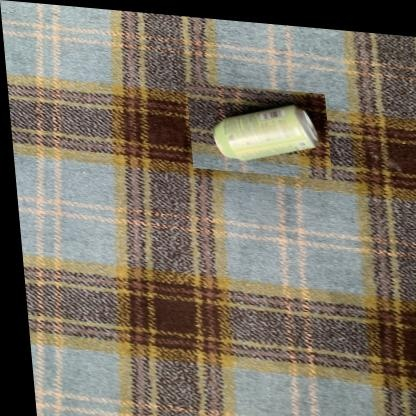trash: (214, 105, 318, 160)
